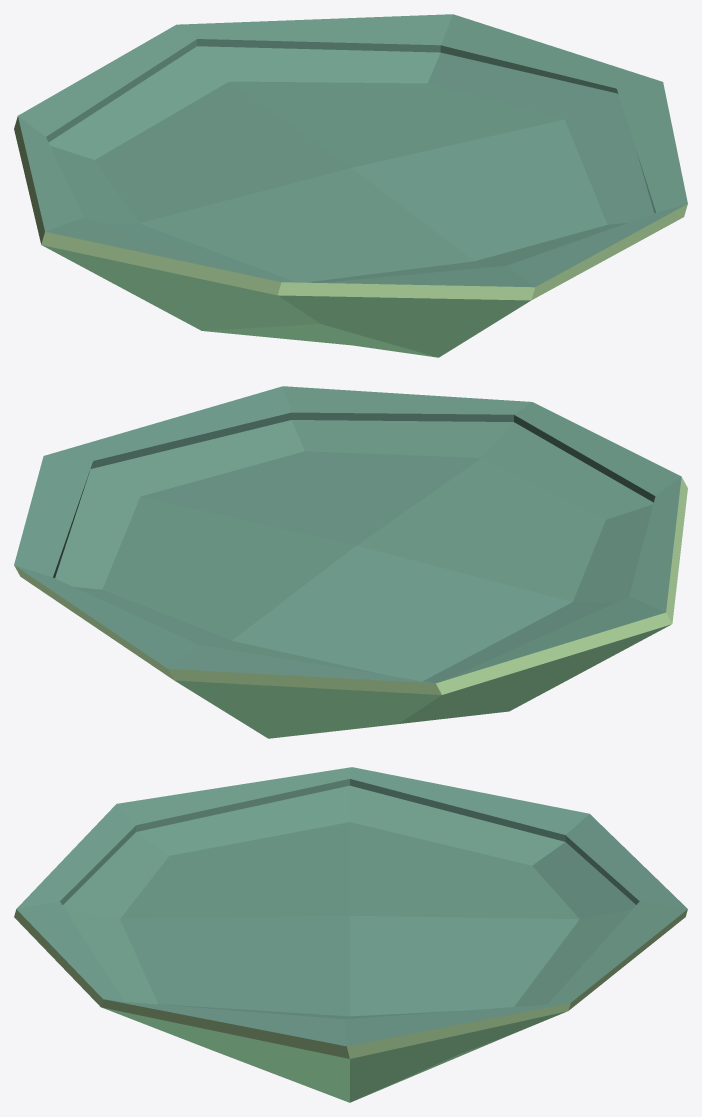
File: SHroomplatform.fbx
3 renders of one model, top to bottom at view 1: azimuth 30°, elevation 25°; view 2: azimuth 150°, elevation 25°; view 3: azimuth 270°, elevation 25°, orthographic. The views are drawn at different scales.
Parts seen in each view (by area): view 1: Cube.275; view 2: Cube.275; view 3: Cube.275.
Part boxes in pixels (bbox=[...]): Cube.275: bbox=[14, 14, 687, 357]; Cube.275: bbox=[14, 386, 687, 738]; Cube.275: bbox=[14, 767, 687, 1102].
Bounding box in the file's own units: 56.73 × 17.62 × 56.92.
